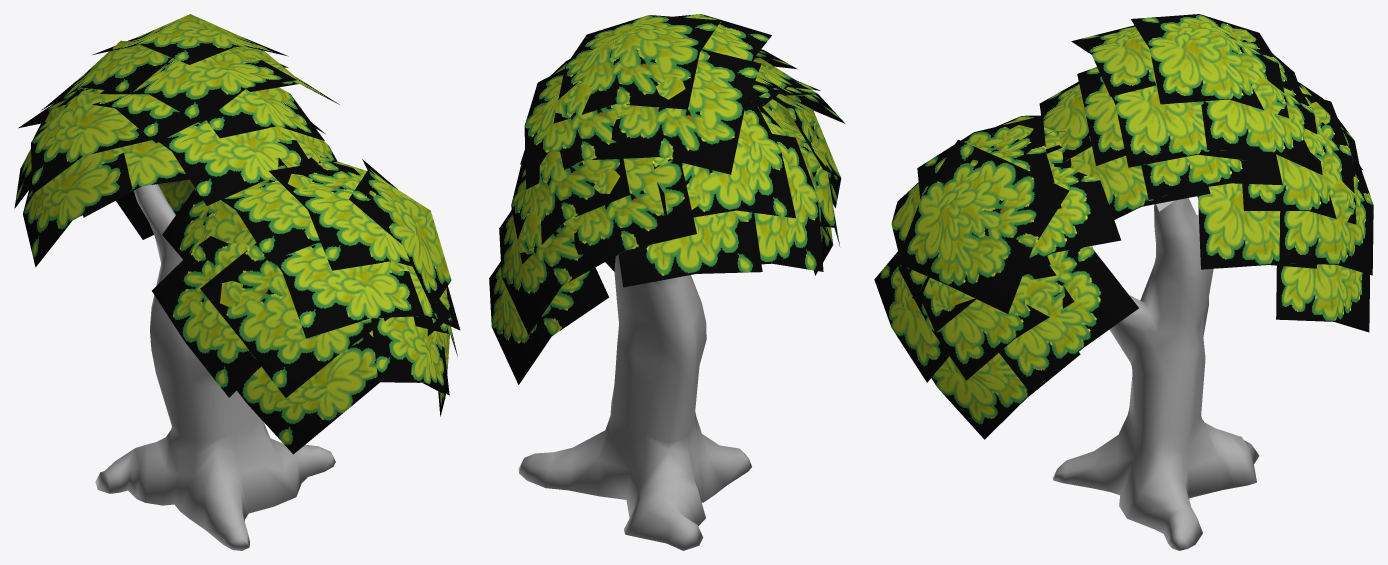
Rendered from Arbol pequeño con hojas.fbx.
3 views of the same model, side by side, from view 1: azimuth 30°, elevation 25°; view 2: azimuth 150°, elevation 25°; view 3: azimuth 270°, elevation 25° (orthographic). The views are drawn at different scales.
Parts seen in each view (by area): view 1: Low_arbol_pequenio, Hoja_1_3, Hoja_1_84, Hoja_1_4, Hoja_1_5, Hoja_1_92, Hoja_1_81, Hoja_1_96, Hoja_1_97, Hoja_1_105, Hoja_1_10, Hoja_1_85 (+12 smaller); view 2: Low_arbol_pequenio, Hoja_1_109, Hoja_1_107, Hoja_1_102, Hoja_1_96, Hoja_1_99, Hoja_1_108, Hoja_1_101, Hoja_1_100, Hoja_1_8, Hoja_1_97, Hoja_1_3 (+4 smaller); view 3: Low_arbol_pequenio, Hoja_1_10, Hoja_1_109, Hoja_1_93, Hoja_1_108, Hoja_1_80, Hoja_1_101, Hoja_1_106, Hoja_1_100, Hoja_1_103, Hoja_1_8, Hoja_1_87 (+12 smaller).
Boxes of the visible parts, x1,y1,x2,y2 form: Low_arbol_pequenio: [95, 184, 335, 550]; Hoja_1_3: [200, 243, 389, 397]; Hoja_1_84: [273, 242, 424, 338]; Hoja_1_4: [152, 236, 261, 397]; Hoja_1_5: [237, 333, 379, 454]; Hoja_1_92: [269, 161, 412, 270]; Hoja_1_81: [159, 120, 308, 205]; Hoja_1_96: [31, 88, 151, 193]; Hoja_1_97: [23, 149, 132, 267]; Hoja_1_105: [100, 50, 296, 123]; Hoja_1_10: [349, 159, 451, 308]; Hoja_1_85: [221, 168, 320, 261]; Low_arbol_pequenio: [518, 254, 751, 550]; Hoja_1_109: [553, 15, 720, 123]; Hoja_1_107: [590, 49, 761, 174]; Hoja_1_102: [568, 157, 696, 282]; Hoja_1_96: [652, 101, 795, 221]; Hoja_1_99: [618, 186, 762, 287]; Hoja_1_108: [524, 69, 644, 189]; Hoja_1_101: [499, 210, 610, 334]; Hoja_1_100: [511, 151, 629, 263]; Hoja_1_8: [489, 261, 609, 384]; Hoja_1_97: [754, 134, 823, 271]; Hoja_1_3: [773, 93, 841, 207]; Low_arbol_pequenio: [1052, 198, 1259, 550]; Hoja_1_10: [897, 139, 1069, 313]; Hoja_1_109: [1131, 14, 1288, 117]; Hoja_1_93: [999, 246, 1138, 392]; Hoja_1_108: [1201, 77, 1322, 174]; Hoja_1_80: [898, 265, 1074, 380]; Hoja_1_101: [1279, 152, 1373, 275]; Hoja_1_106: [1112, 78, 1260, 167]; Hoja_1_100: [1242, 93, 1356, 224]; Hoja_1_103: [1197, 183, 1317, 269]; Hoja_1_8: [1276, 264, 1369, 332]; Hoja_1_87: [931, 344, 1080, 439].
Bounding box in the file's own units: 107 × 147 × 145.
